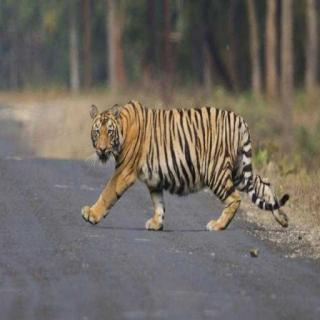Tiger: (79, 93, 298, 237)
